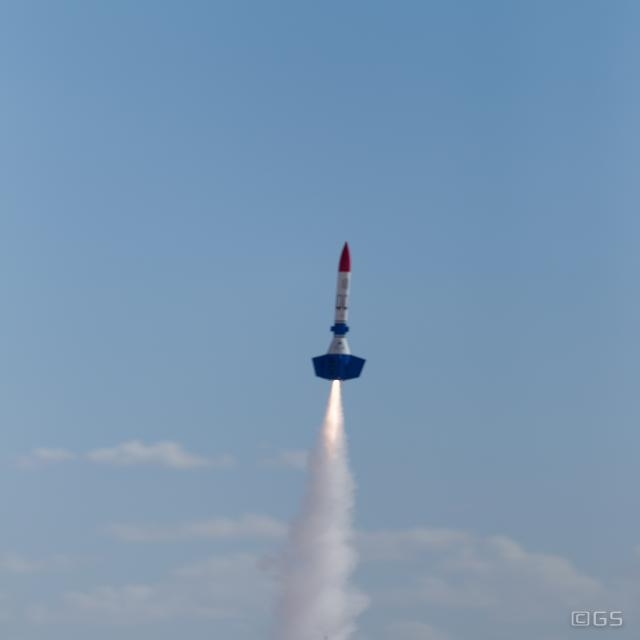Rocket: (311, 240, 369, 384)
